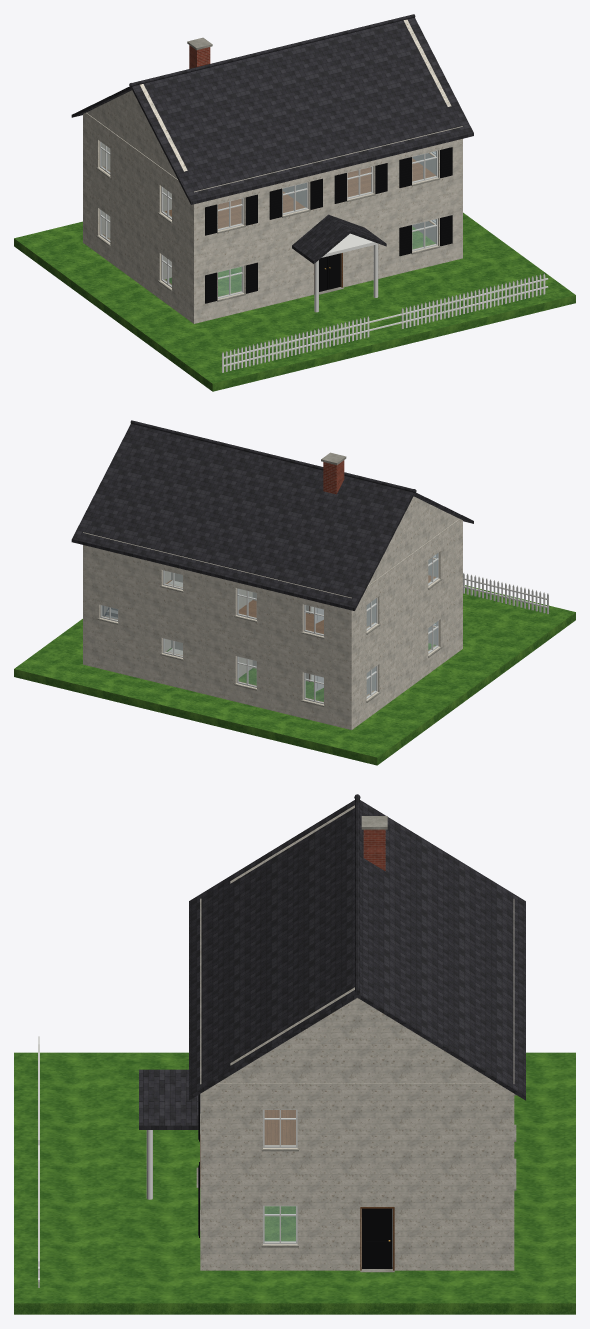
The model's file is b_american_colonial.gltf.
The picture shows the model from 3 angles, top to bottom: view 1: azimuth 30°, elevation 25°; view 2: azimuth 150°, elevation 25°; view 3: azimuth 270°, elevation 25°; orthographic projection. The views are drawn at different scales.
Parts seen in each view (by area): view 1: S_american_colonial; view 2: S_american_colonial; view 3: S_american_colonial, D_american_colonial_F1_E1_Door0.
Part boxes in pixels (x1,y1,x2,y2): S_american_colonial: (14, 14, 575, 391); S_american_colonial: (14, 420, 575, 765); S_american_colonial: (14, 794, 575, 1314); D_american_colonial_F1_E1_Door0: (362, 1208, 392, 1268).
Size of the model in its own units: 19 by 11.37 by 18.
Materials: 20 (13 with a texture image).
